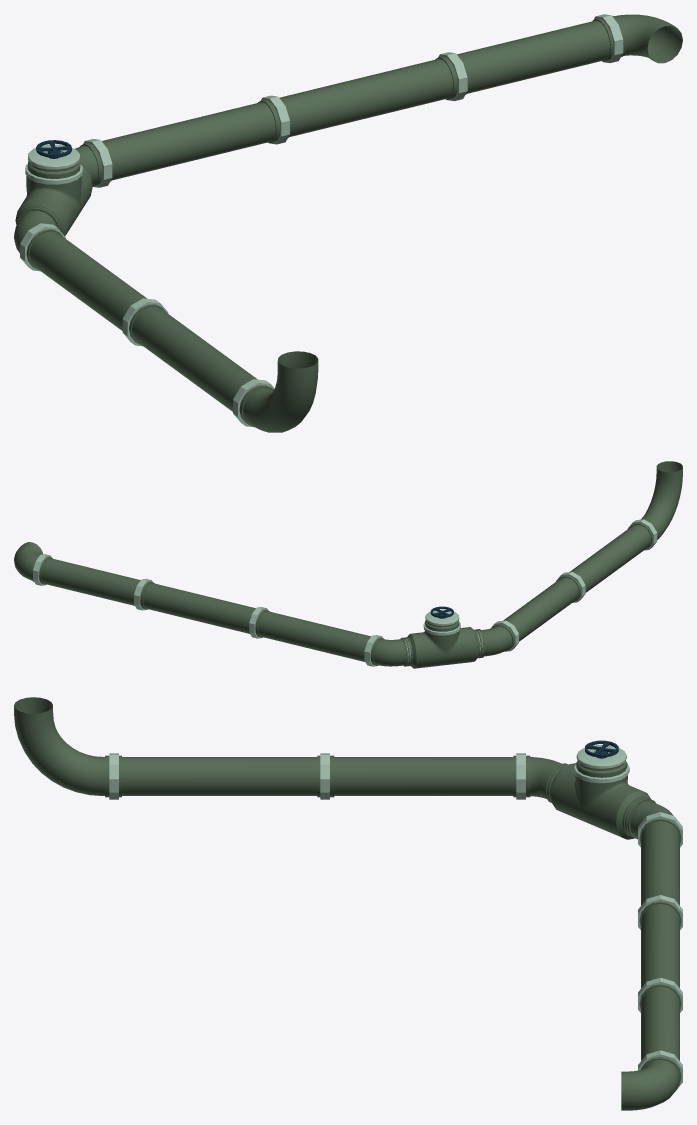
The model's file is PipeComplexLarge_A1_11.fbx.
The picture shows the model from 3 angles, top to bottom: view 1: azimuth 30°, elevation 25°; view 2: azimuth 150°, elevation 25°; view 3: azimuth 270°, elevation 25°; orthographic projection. The views are drawn at different scales.
Visible parts, largest first — view 1: PipeComplexLarge_A1_11.001; view 2: PipeComplexLarge_A1_11.001; view 3: PipeComplexLarge_A1_11.001.
Boxes of the visible parts, x1,y1,x2,y2 form: PipeComplexLarge_A1_11.001: (14,14,682,432); PipeComplexLarge_A1_11.001: (14,461,682,668); PipeComplexLarge_A1_11.001: (14,697,682,1110).
Bounding box in the file's own units: 4.01 × 0.5324 × 3.41.
